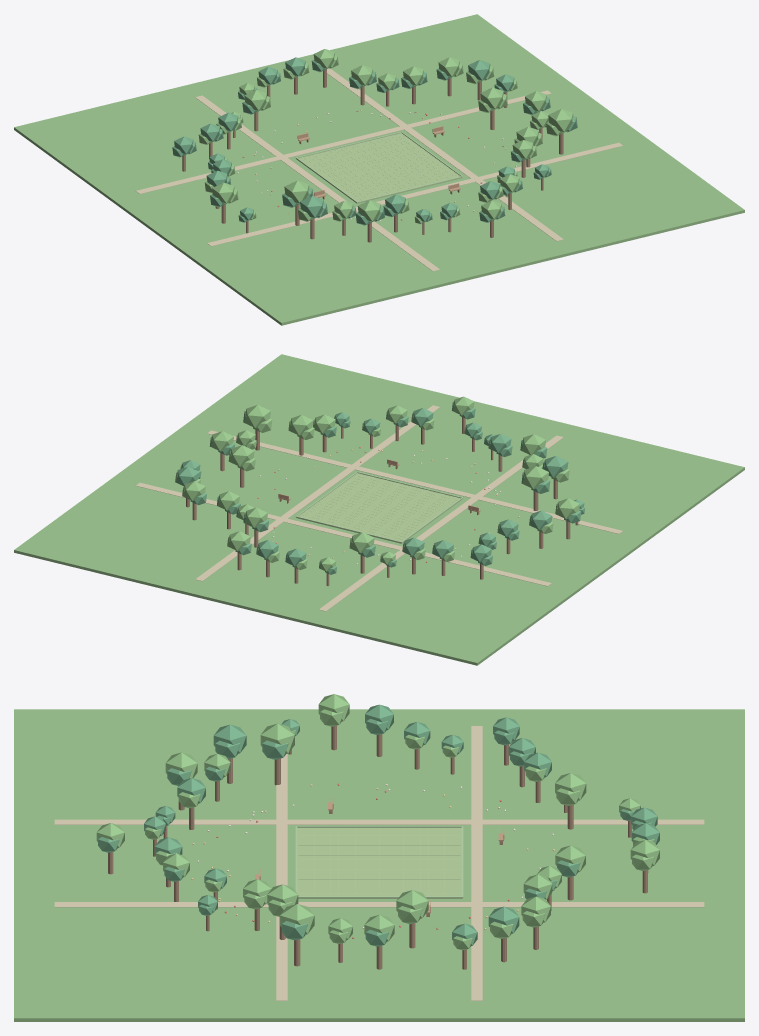
File: landscape-park.glb
3 views of the same model, one above another, from view 1: azimuth 30°, elevation 25°; view 2: azimuth 150°, elevation 25°; view 3: azimuth 270°, elevation 25° (orthographic). The views are drawn at different scales.
Parts seen in each view (by area): view 1: Surrounding terrain, Playing clearing, Garden path, Garden path.003, Garden path.001, Garden path.002; view 2: Surrounding terrain, Playing clearing, Garden path.002, Garden path.003, Garden path.001, Garden path; view 3: Surrounding terrain, Playing clearing, Garden path.001, Garden path, Garden path.003, Garden path.002, Leaf canopy.109, Leaf canopy.067, Leaf canopy.070, Leaf canopy.004, Leaf canopy.076.
Boxes of the visible parts, x1,y1,x2,y2 form: Surrounding terrain: (14,14,744,325); Playing clearing: (296,133,462,203); Garden path: (136,90,551,193); Garden path.003: (327,68,563,241); Garden path.001: (195,95,439,271); Garden path.002: (207,142,622,246); Surrounding terrain: (14,354,744,665); Playing clearing: (296,473,462,543); Garden path.002: (207,430,622,533); Garden path.003: (195,405,439,581); Garden path.001: (319,435,563,611); Garden path: (136,482,551,586); Surrounding terrain: (14,709,744,1021); Playing clearing: (297,828,462,898); Garden path.001: (54,819,704,824); Garden path: (471,726,482,1000); Garden path.003: (54,902,704,907); Garden path.002: (276,754,287,1000); Leaf canopy.109: (280,904,314,934); Leaf canopy.067: (260,723,294,753); Leaf canopy.070: (213,724,246,753); Leaf canopy.004: (396,890,428,918); Leaf canopy.076: (165,752,197,778).
Bounding box in the file's own units: 90 × 8.81 × 90.
